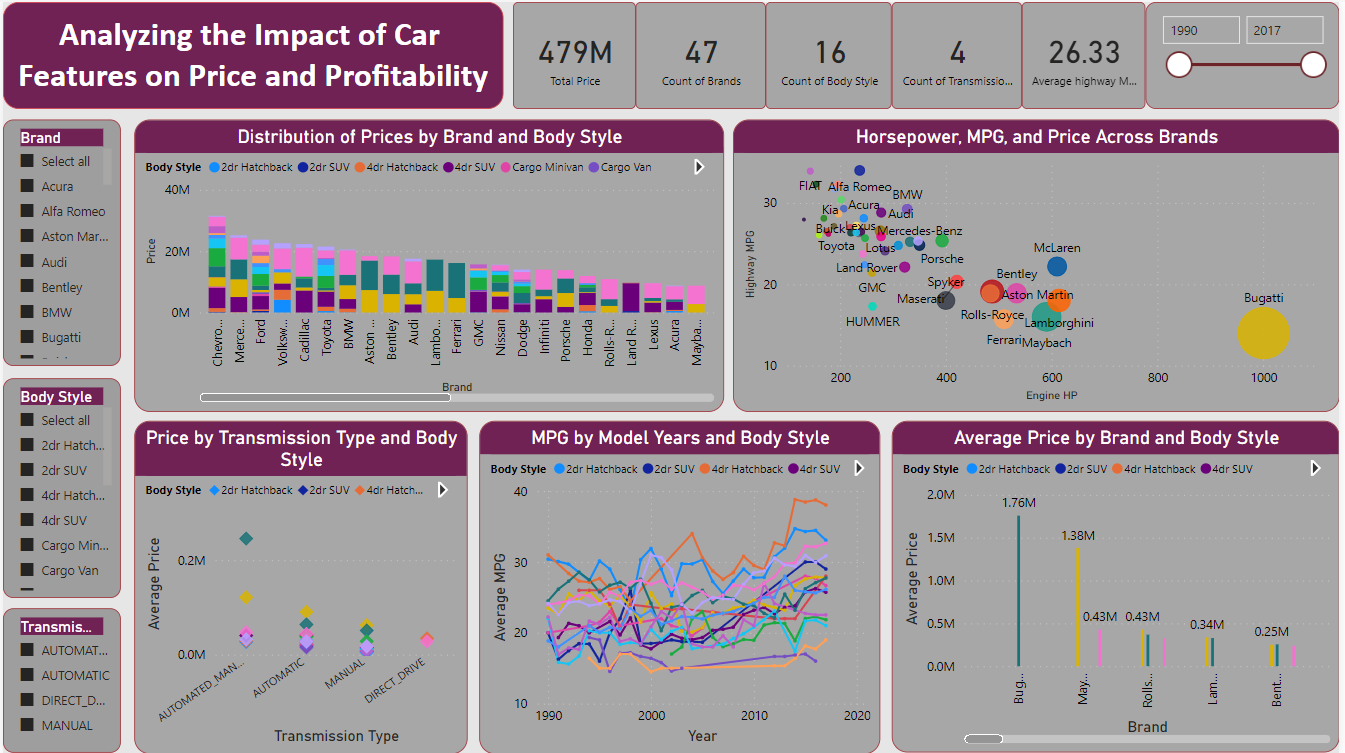

The dashboard page shown, as its layout file describes it:
{"tool":"powerbi","page":{"name":"Page 1","canvas":[1280,720],"ordinal":0},"visuals":[{"type":"columnChart","title":"Distribution of Prices by Brand and Body Style","fields":{"Y":["Sum(cleaned data.MSRP)"],"Category":["cleaned data.Make"],"Series":["cleaned data.Vehicle Style"]},"box":[125.9,112.5,564.8,279.9],"z":0},{"type":"slicer","fields":{"Values":["cleaned data.Make"]},"box":[0,112.5,112.5,235.9],"z":1000},{"type":"slicer","fields":{"Values":["cleaned data.Vehicle Style"]},"box":[0,360.6,112.5,210.3],"z":2000},{"type":"clusteredColumnChart","title":"Average Price by Brand and Body Style","fields":{"Category":["cleaned data.Make"],"Y":["Avg(cleaned data.MSRP)"],"Series":["cleaned data.Vehicle Style"]},"box":[850.8,401,429.1,317.8],"z":3000},{"type":"card","title":"Total Price","fields":{"Values":["Count(cleaned data.Make)"]},"box":[605.1,0,124.7,102.7],"z":4000},{"type":"card","title":"Total Price","fields":{"Values":["Count(cleaned data.Vehicle Style)"]},"box":[729.8,0,121,102.7],"z":5000},{"type":"card","title":"Total Price","fields":{"Values":["Sum(cleaned data.MSRP)"]},"box":[487.7,0,117.4,102.7],"z":6000},{"type":"scatterChart","title":"Price by Transmission Type and Body Style","fields":{"Series":["cleaned data.Vehicle Style"],"Y":["Avg(cleaned data.MSRP)"],"X":["cleaned data.Transmission Type"]},"box":[125.9,401,319,319],"z":7000},{"type":"slicer","fields":{"Values":["cleaned data.Transmission Type"]},"box":[0,580.6,112.5,138.1],"z":8000},{"type":"card","title":"Total Price","fields":{"Values":["Count(cleaned data.Transmission Type)"]},"box":[850.8,0,124.7,102.7],"z":9000},{"type":"lineChart","title":"MPG by Model Years and Body Style","fields":{"Series":["cleaned data.Vehicle Style"],"Category":["cleaned data.Year"],"Y":["Avg(cleaned data.highway MPG)"]},"box":[456,401,383.8,319],"z":10000},{"type":"scatterChart","title":"Horsepower, MPG, and Price Across Brands","fields":{"X":["Avg(cleaned data.Engine HP)"],"Y":["Avg(cleaned data.highway MPG)"],"Size":["Avg(cleaned data.MSRP)"],"Series":["cleaned data.Make"]},"box":[699.2,112.5,580.6,279.9],"z":11000},{"type":"slicer","fields":{"Values":["cleaned data.Year"]},"box":[1094.1,0,185.8,102.7],"z":12000},{"type":"textbox","box":[0,0,479.2,102.7],"z":13000},{"type":"card","title":"Total Price","fields":{"Values":["Avg(cleaned data.highway MPG)"]},"box":[975.5,0,118.6,102.7],"z":14000}]}

Visuals, with their boxes in screenshot pixels (x1, y1, x2, y2), scaled from the page's 1280x720 canvas onto the 1345x753 screenshot:
"Distribution of Prices by Brand and Body Style" columnChart: Rect(132, 118, 726, 410)
slicer - cleaned data.Make: Rect(0, 118, 118, 364)
slicer - cleaned data.Vehicle Style: Rect(0, 377, 118, 597)
"Average Price by Brand and Body Style" clusteredColumnChart: Rect(894, 419, 1344, 752)
"Total Price" card: Rect(636, 0, 767, 107)
"Total Price" card: Rect(767, 0, 894, 107)
"Total Price" card: Rect(512, 0, 636, 107)
"Price by Transmission Type and Body Style" scatterChart: Rect(132, 419, 467, 752)
slicer - cleaned data.Transmission Type: Rect(0, 607, 118, 752)
"Total Price" card: Rect(894, 0, 1025, 107)
"MPG by Model Years and Body Style" lineChart: Rect(479, 419, 882, 752)
"Horsepower, MPG, and Price Across Brands" scatterChart: Rect(735, 118, 1344, 410)
slicer - cleaned data.Year: Rect(1150, 0, 1344, 107)
textbox: Rect(0, 0, 504, 107)
"Total Price" card: Rect(1025, 0, 1150, 107)
